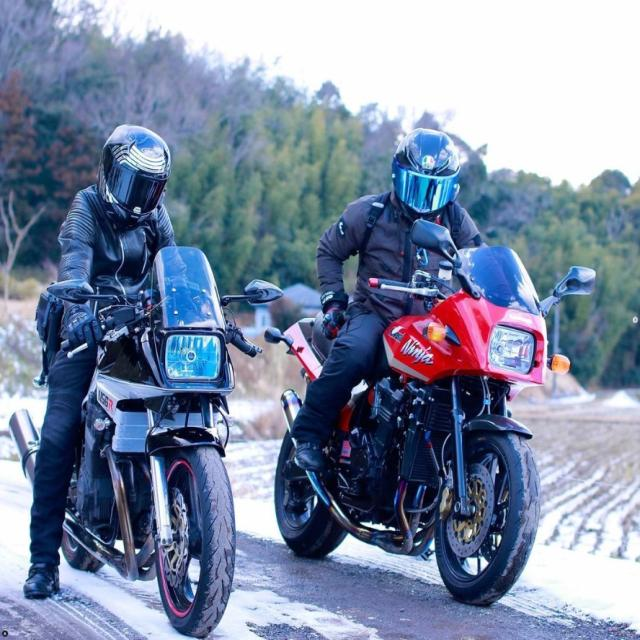helmet: (93, 120, 174, 230), (388, 124, 463, 224)
